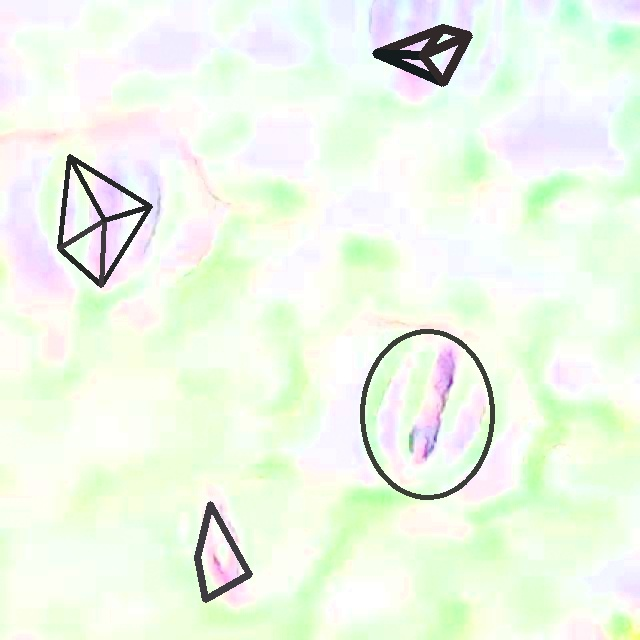open: (359, 328, 494, 499), (57, 154, 152, 287), (372, 24, 472, 86), (194, 501, 252, 602)
